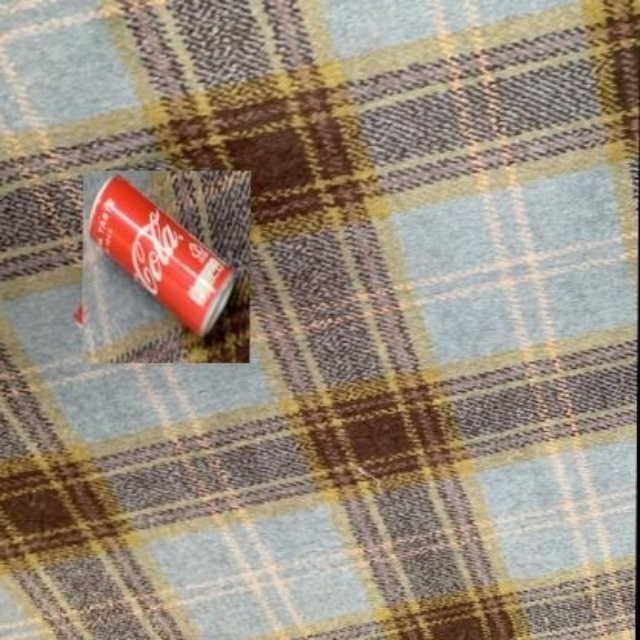trash: (89, 175, 234, 335)
